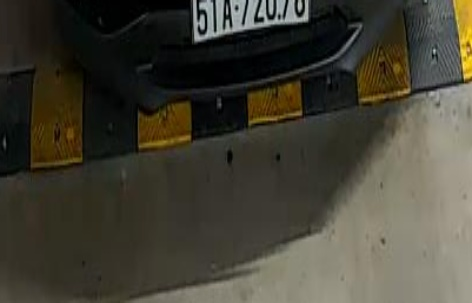plate: (191, 1, 320, 51)
